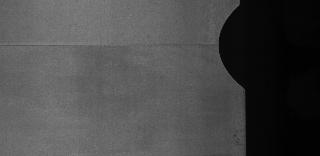welding line: (2, 40, 230, 52)
